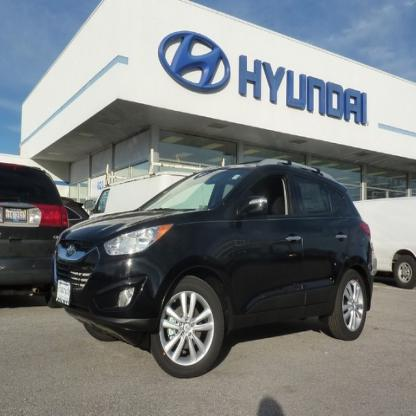Vehicle: (54, 160, 375, 382)
